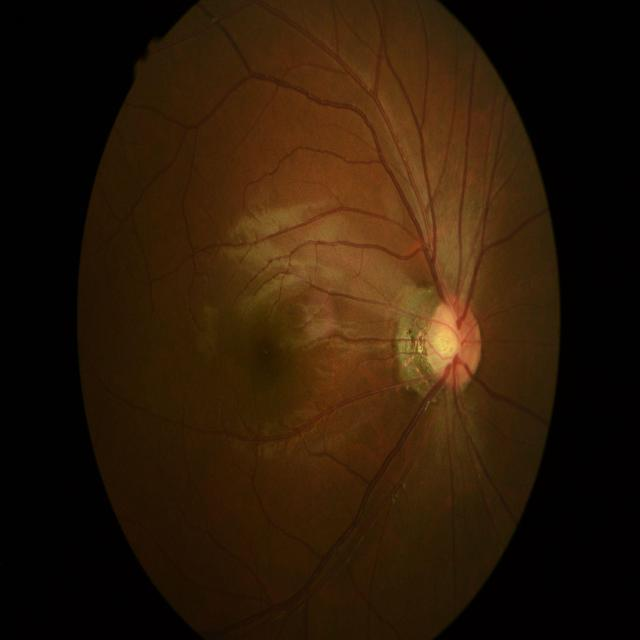cup: (429, 304, 462, 368)
disk: (427, 296, 481, 388)
